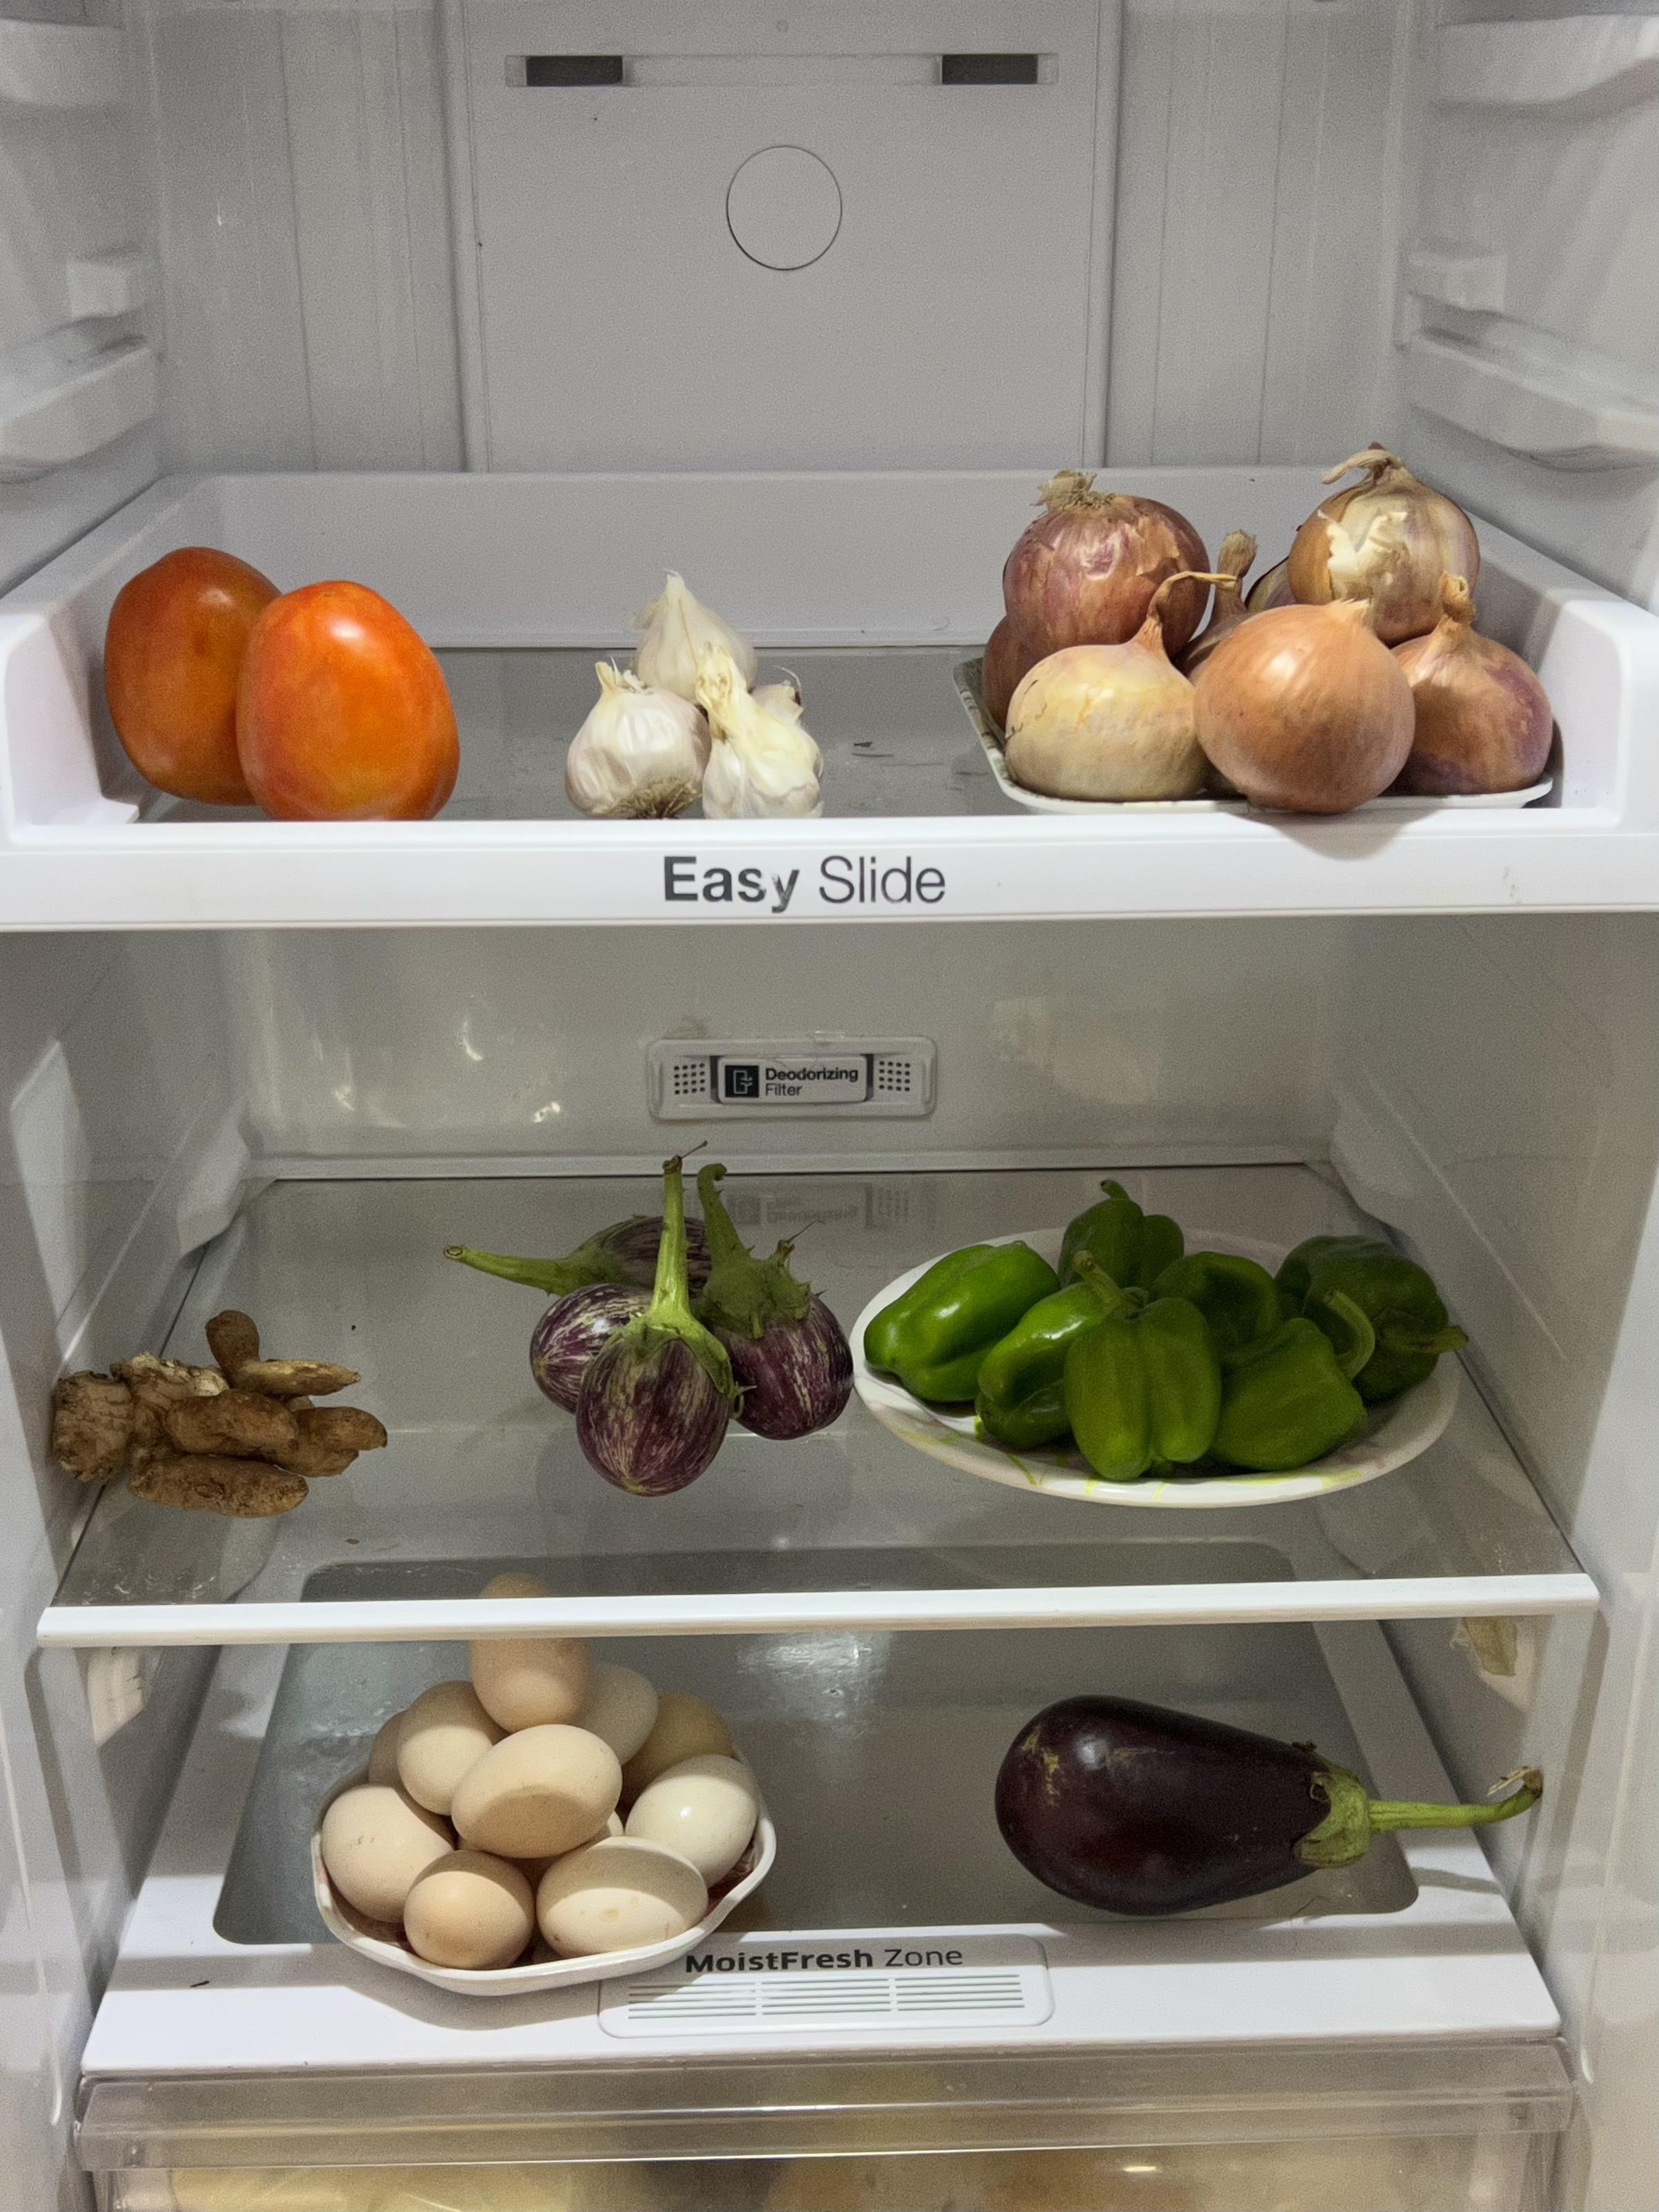bringal: (978, 1681, 1513, 1921), (523, 1190, 852, 1496)
capsicum: (863, 1186, 1476, 1475)
egg: (305, 1641, 765, 1970)
garlic: (566, 563, 835, 820)
ginger: (37, 1298, 397, 1522)
onion: (985, 472, 1579, 812)
tomato: (99, 547, 464, 820)
